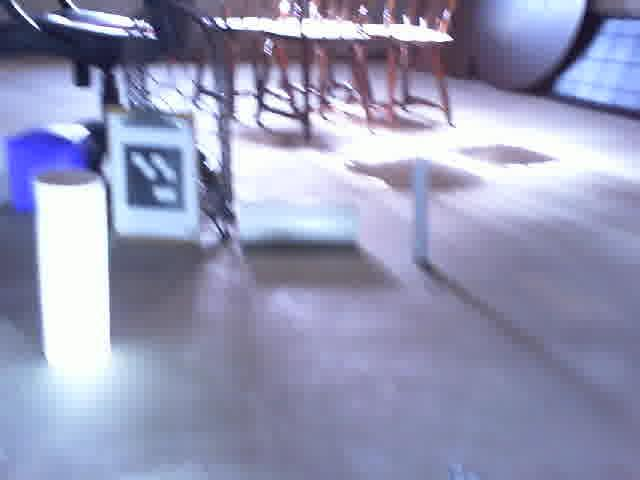coral: (32, 165, 117, 377), (231, 202, 365, 250)
